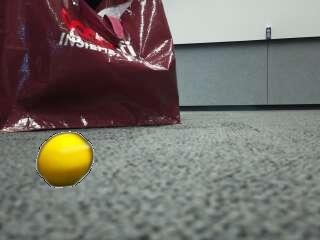lemon: (38, 133, 92, 186)
